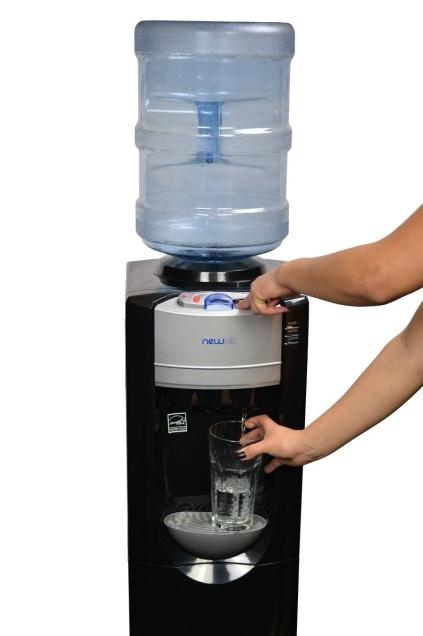Dispenser: (123, 19, 309, 635)
